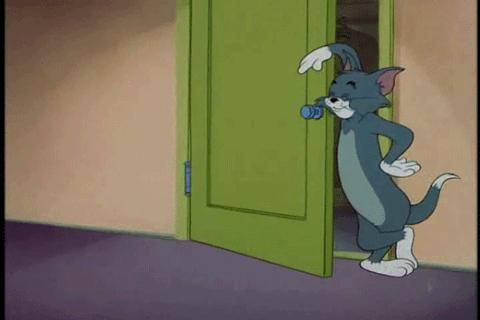tom: (297, 42, 462, 280)
